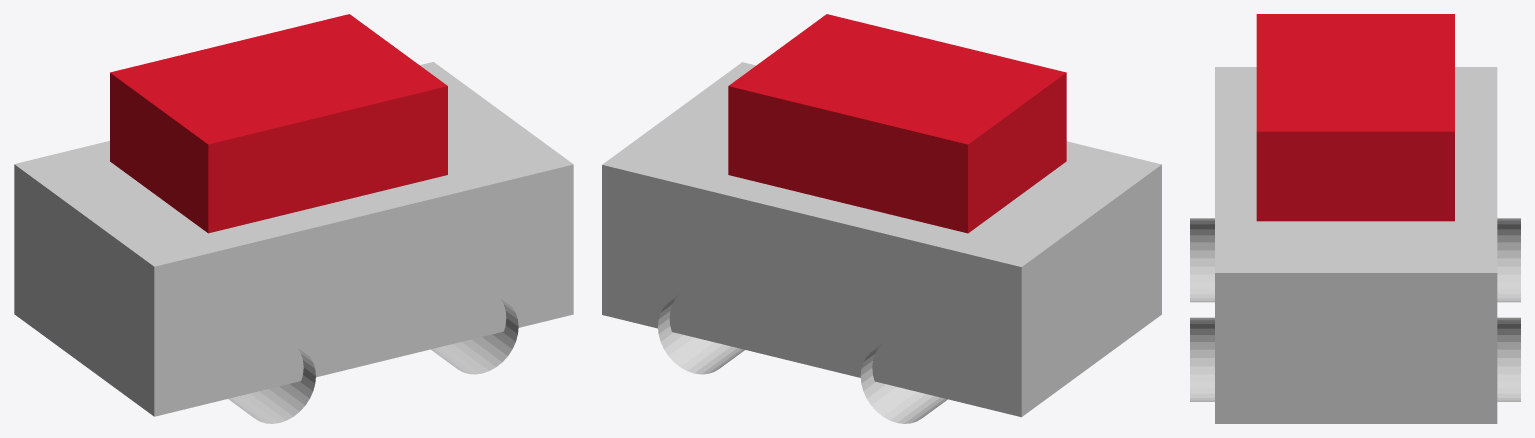
Rendered from car.glb.
The picture shows the model from 3 angles, left to right: view 1: azimuth 30°, elevation 25°; view 2: azimuth 150°, elevation 25°; view 3: azimuth 270°, elevation 25°; orthographic projection.
Visible parts, largest first — view 1: Car_Model; view 2: Car_Model; view 3: Car_Model.
Boxes of the visible parts, <box> form: Car_Model: <box>14,14,573,423</box>; Car_Model: <box>602,14,1161,423</box>; Car_Model: <box>1190,14,1520,423</box>.
Bounding box in the file's own units: 4.15 × 2.49 × 2.82.
